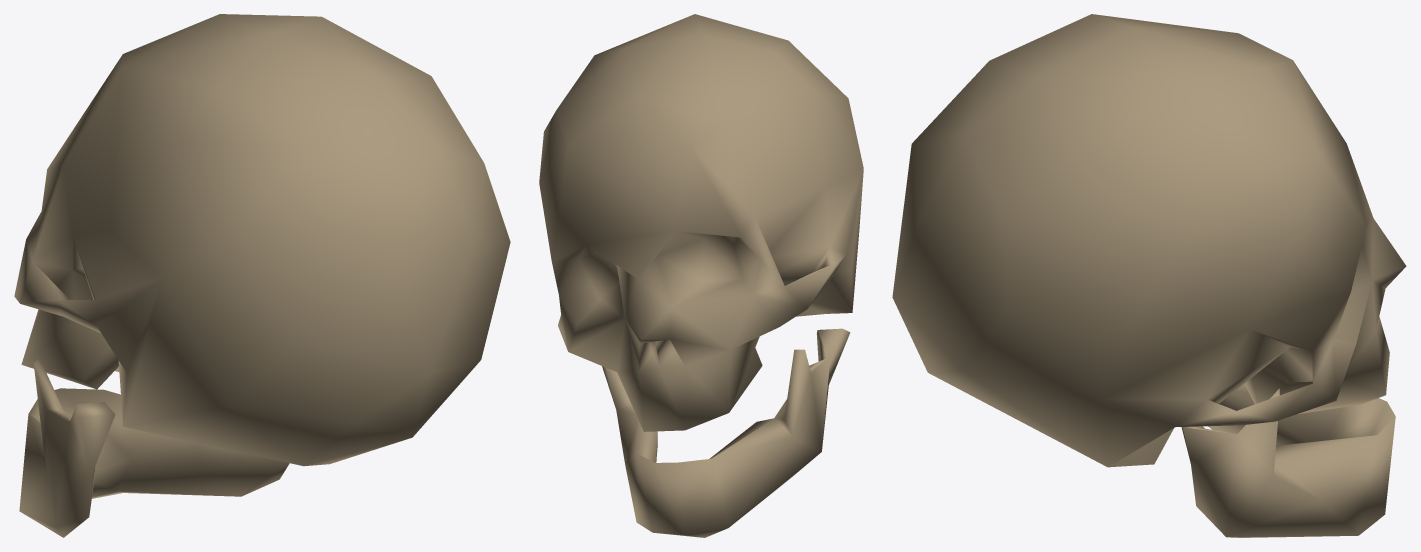
The model's file is Skull.glb.
The picture shows the model from 3 angles, left to right: view 1: azimuth 30°, elevation 25°; view 2: azimuth 150°, elevation 25°; view 3: azimuth 270°, elevation 25°; orthographic projection. The views are drawn at different scales.
Visible parts, largest first — view 1: Skull.001; view 2: Skull.001; view 3: Skull.001.
Part boxes in pixels (x1,y1,x2,y2): Skull.001: (14, 14, 510, 537); Skull.001: (539, 14, 863, 537); Skull.001: (892, 14, 1406, 537).
Size of the model in its own units: 0.1638 by 0.2175 by 0.1941.
